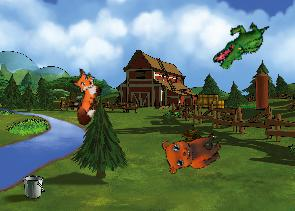bear: (156, 119, 226, 181)
crocodile: (210, 10, 271, 79)
fox: (57, 66, 108, 127)
